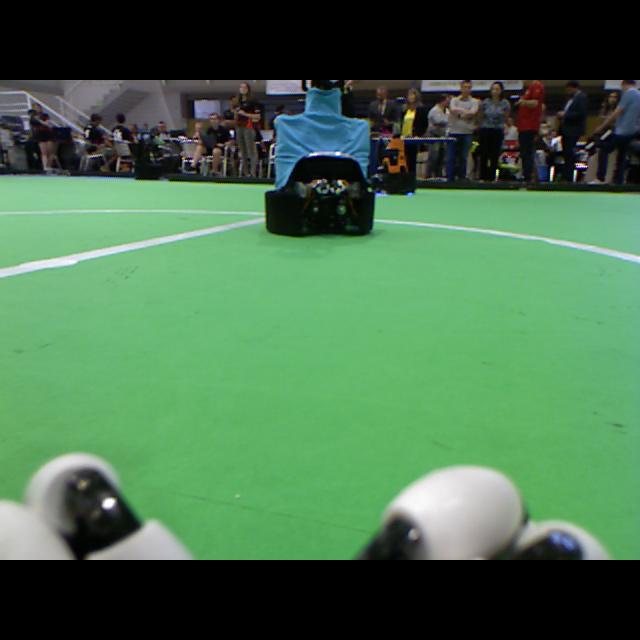robot: (372, 122, 415, 195)
